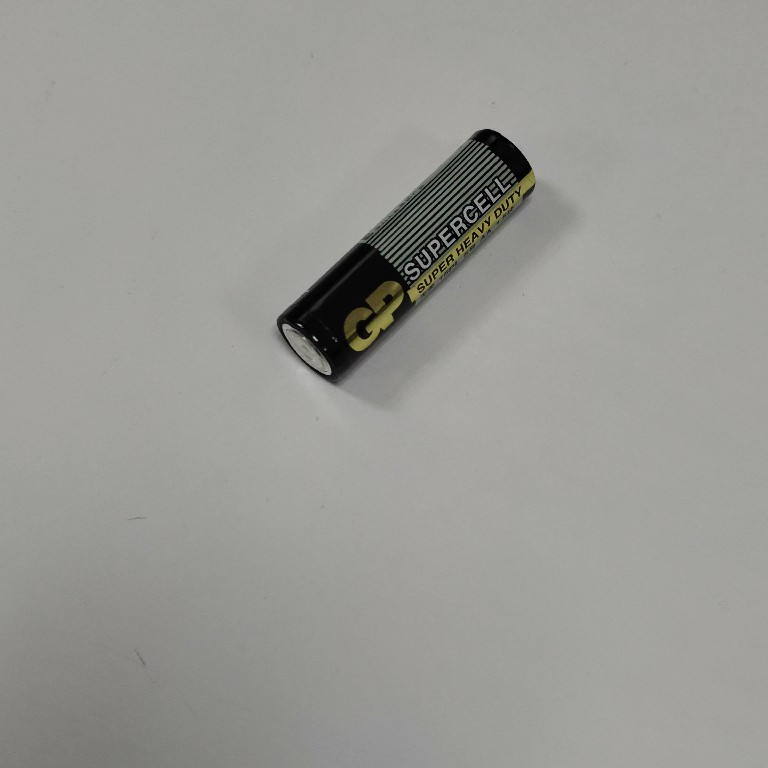charge: (272, 125, 541, 387)
